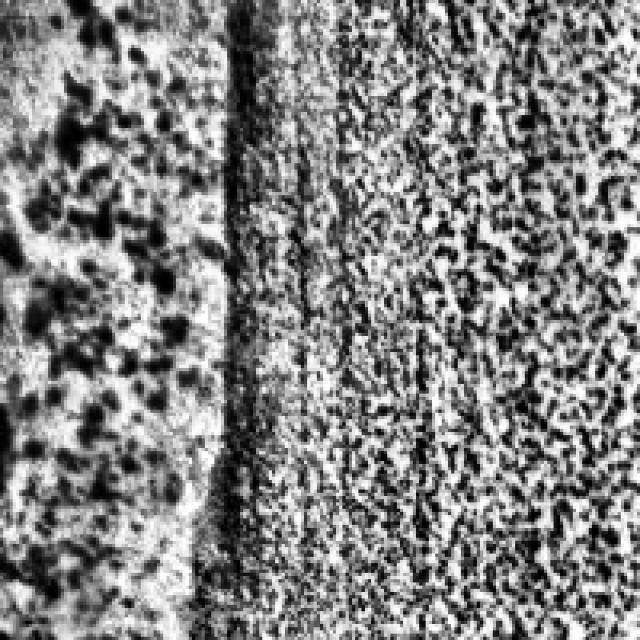Rolled_in_Scale: (243, 0, 634, 637), (26, 0, 192, 627)
